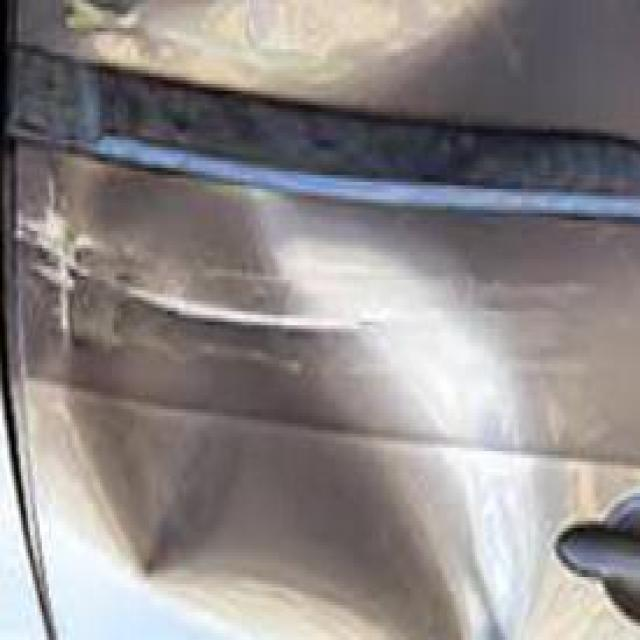dent: (48, 175, 532, 626)
